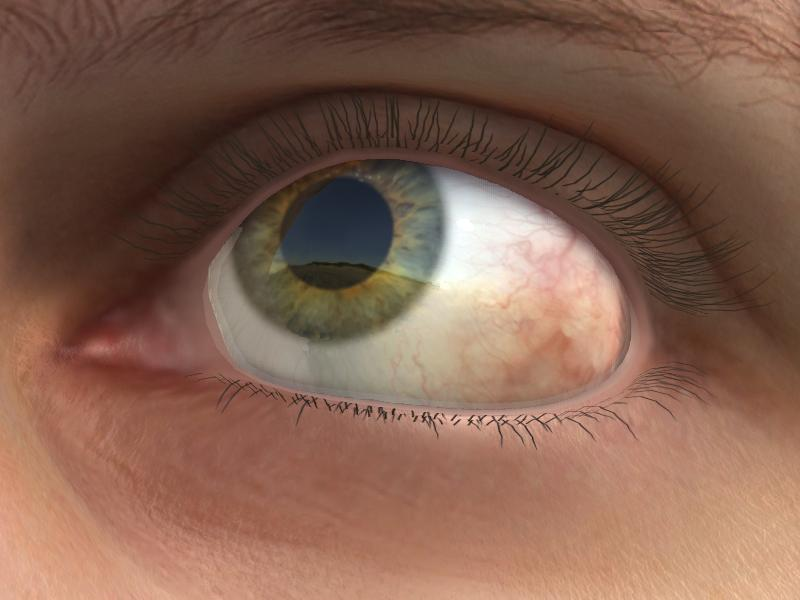eye: (237, 154, 447, 345)
